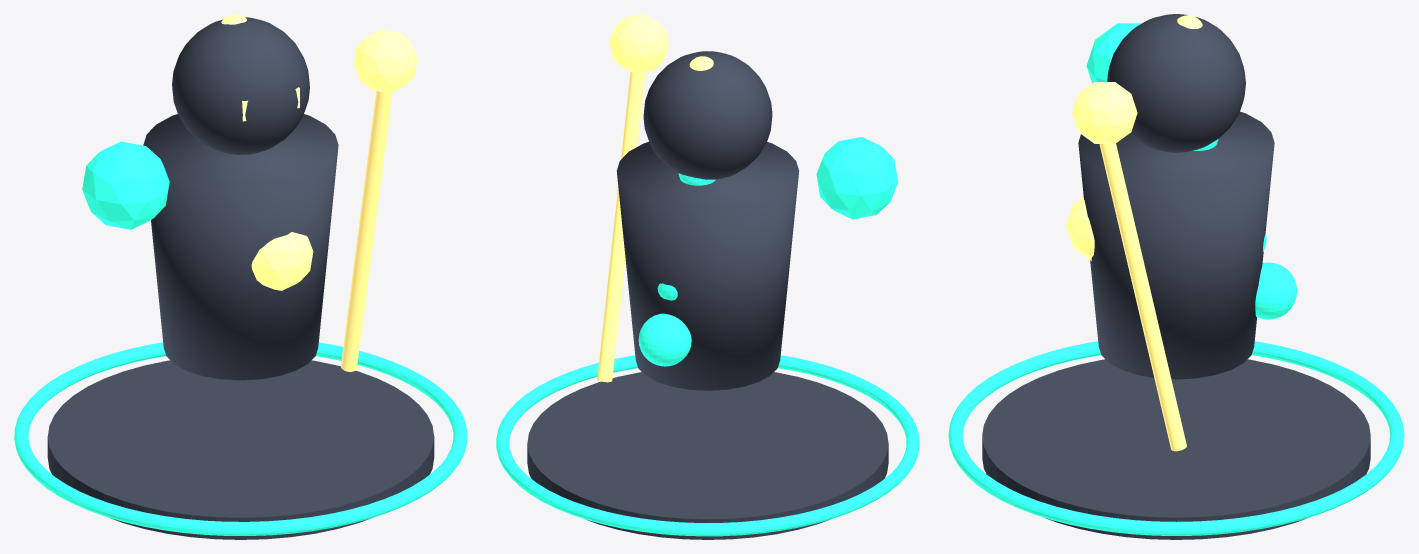
Rendered from scorpius.glb.
3 renders of one model, left to right at view 1: azimuth 30°, elevation 25°; view 2: azimuth 150°, elevation 25°; view 3: azimuth 270°, elevation 25°, orthographic. The views are drawn at different scales.
Parts seen in each view (by area): view 1: AbilityPedestal, AgentTorso, AgentHead, AbilityAuraRing, Pet_SCORPIUS, SignatureWeapon, WeaponApex, AgentCore; view 2: AbilityPedestal, AgentTorso, AgentHead, AbilityAuraRing, Pet_SCORPIUS, SignatureWeapon, WeaponApex, StingerSeg_0; view 3: AbilityPedestal, AgentTorso, AgentHead, AbilityAuraRing, SignatureWeapon, WeaponApex, StingerSeg_0, Pet_SCORPIUS, AgentCore.
Part boxes in pixels (<box>): AbilityPedestal: <box>47,360,434,539</box>; AgentTorso: <box>143,114,338,380</box>; AgentHead: <box>172,17,309,154</box>; AbilityAuraRing: <box>14,342,467,535</box>; Pet_SCORPIUS: <box>82,141,169,229</box>; SignatureWeapon: <box>341,91,392,371</box>; WeaponApex: <box>354,29,417,93</box>; AgentCore: <box>251,232,313,290</box>; AbilityPedestal: <box>527,372,888,539</box>; AgentTorso: <box>616,142,799,390</box>; AgentHead: <box>643,51,772,179</box>; AbilityAuraRing: <box>496,355,919,536</box>; Pet_SCORPIUS: <box>816,137,897,219</box>; SignatureWeapon: <box>597,71,645,382</box>; WeaponApex: <box>609,14,668,73</box>; StingerSeg_0: <box>638,313,691,366</box>; AbilityPedestal: <box>982,359,1370,539</box>; AgentTorso: <box>1078,111,1274,379</box>; AgentHead: <box>1107,14,1245,152</box>; AbilityAuraRing: <box>948,341,1404,535</box>; SignatureWeapon: <box>1099,143,1186,451</box>; WeaponApex: <box>1072,82,1137,143</box>; StingerSeg_0: <box>1255,262,1296,319</box>; Pet_SCORPIUS: <box>1086,23,1141,83</box>; AgentCore: <box>1066,197,1094,260</box>.
Bounding box in the file's own units: 2.23 × 2.38 × 2.23.
